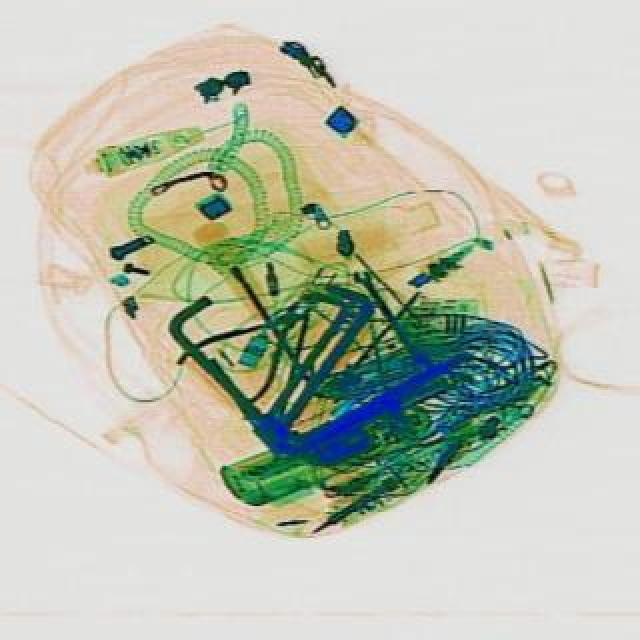scissors: (344, 264, 424, 360)
wrench: (170, 264, 342, 418)
